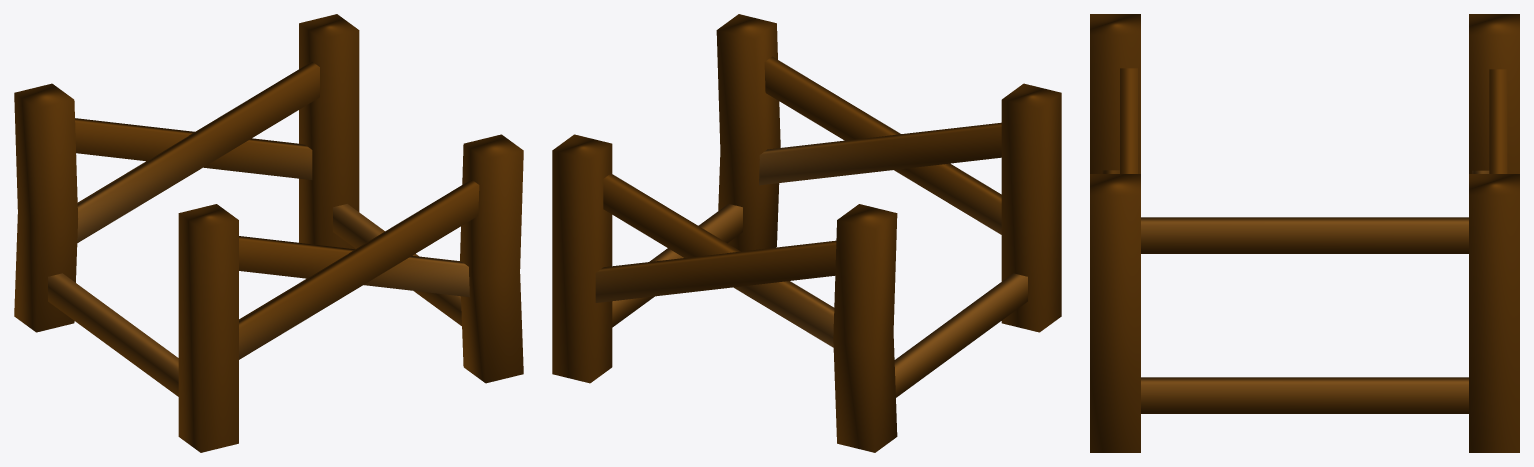
The model's file is platformScaffolding.fbx.
The picture shows the model from 3 angles, left to right: view 1: azimuth 30°, elevation 25°; view 2: azimuth 150°, elevation 25°; view 3: azimuth 270°, elevation 25°; orthographic projection. The views are drawn at different scales.
Visible parts, largest first — view 1: platformScaffolding; view 2: platformScaffolding; view 3: platformScaffolding.
Part boxes in pixels (x1,y1,x2,y2): platformScaffolding: [14, 14, 523, 452]; platformScaffolding: [552, 14, 1061, 452]; platformScaffolding: [1090, 14, 1519, 452].
Bounding box in the file's own units: 227 × 150 × 227.
